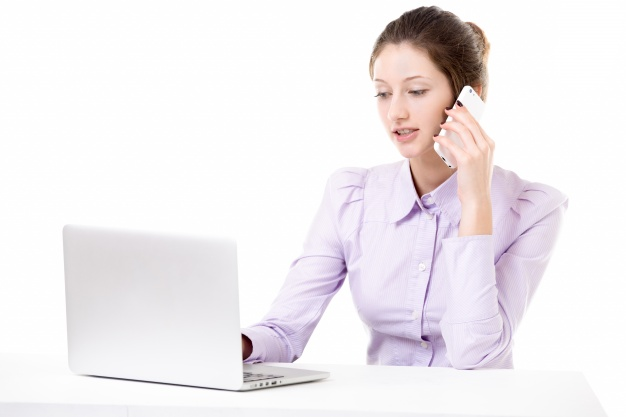phone: (431, 98, 498, 173)
talk: (374, 73, 502, 193)
